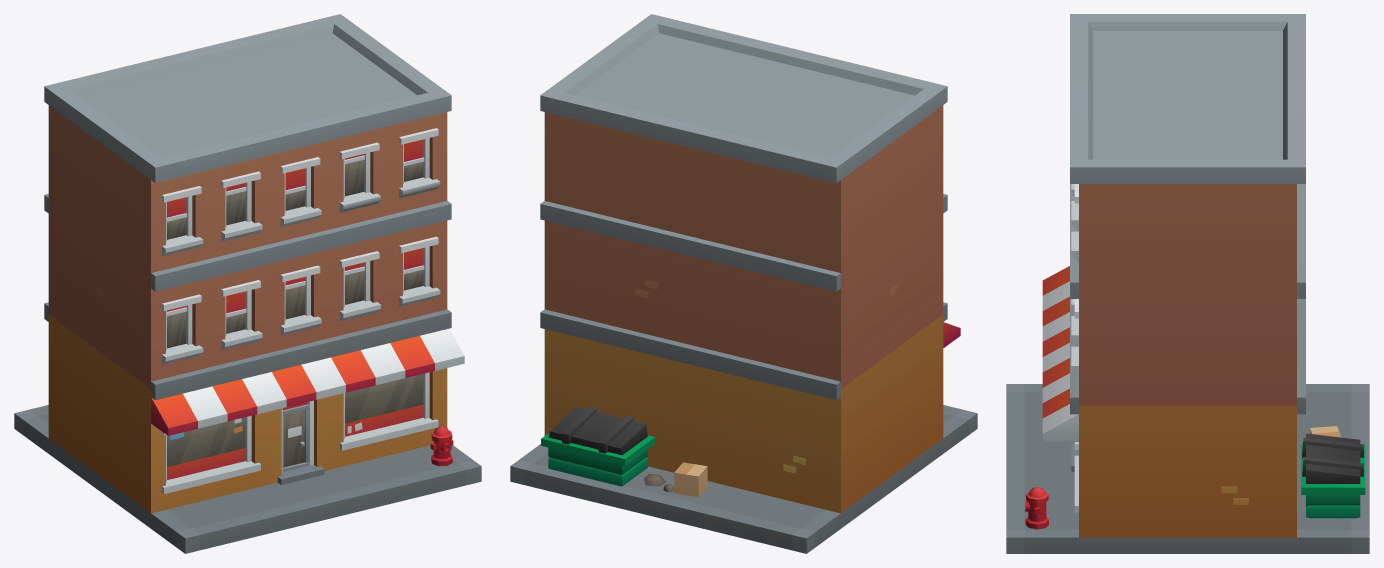
Rendered from building_free_model_b_b.glb.
3 renders of one model, left to right at view 1: azimuth 30°, elevation 25°; view 2: azimuth 150°, elevation 25°; view 3: azimuth 270°, elevation 25°, orthographic. The views are drawn at different scales.
Visible parts, largest first — view 1: building_E; view 2: building_E; view 3: building_E.
Part boxes in pixels (bbox=[...]): building_E: bbox=[14, 14, 481, 553]; building_E: bbox=[510, 14, 977, 553]; building_E: bbox=[1006, 14, 1369, 553].
Bounding box in the file's own units: 2.01 × 2.35 × 2.
Materials: 1 (1 with a texture image).
